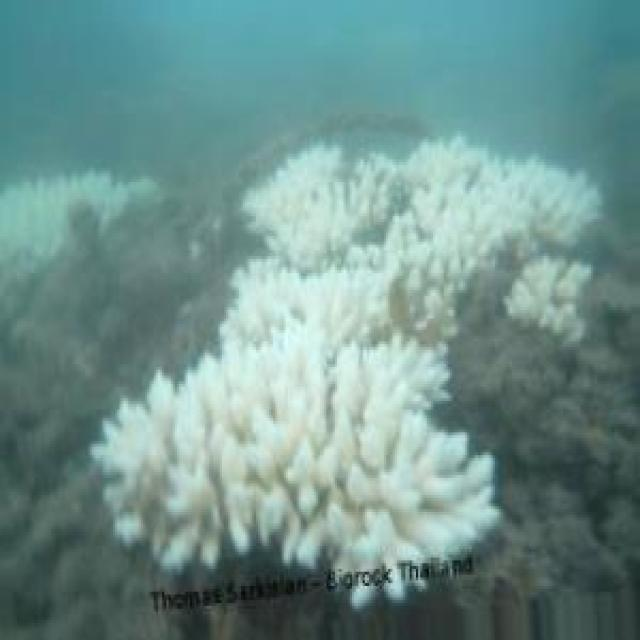bleached coral: (96, 258, 498, 568), (404, 138, 599, 274), (242, 140, 400, 271), (352, 421, 497, 538), (252, 151, 361, 273), (403, 145, 525, 233), (0, 179, 122, 253), (226, 307, 341, 373), (531, 174, 604, 270), (279, 441, 335, 566), (505, 260, 591, 341), (213, 424, 277, 495), (405, 287, 461, 361), (145, 393, 177, 478)
